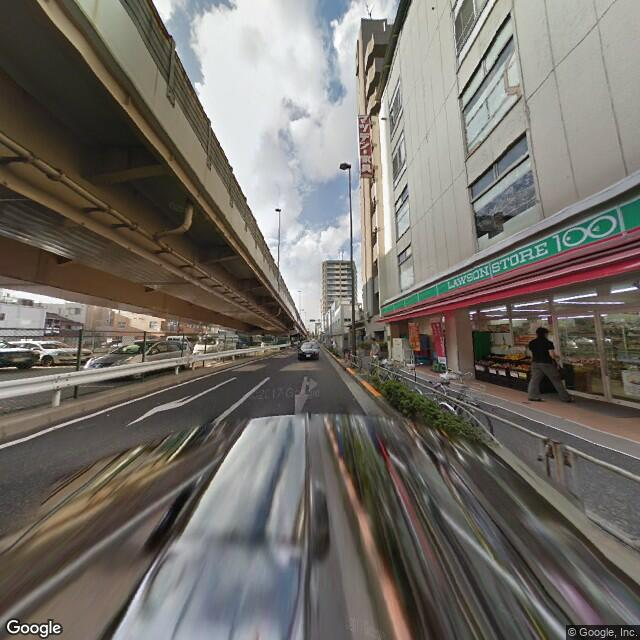lawson: (381, 190, 639, 318)
